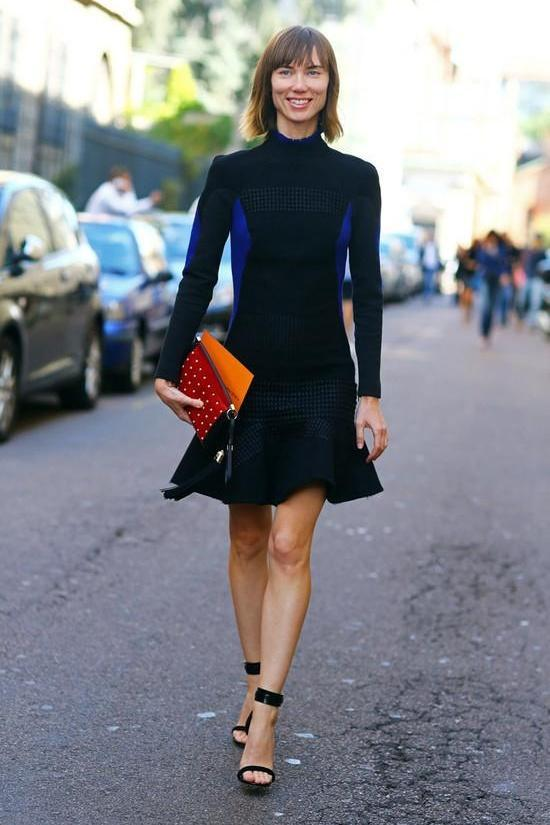dress: (156, 128, 383, 506)
